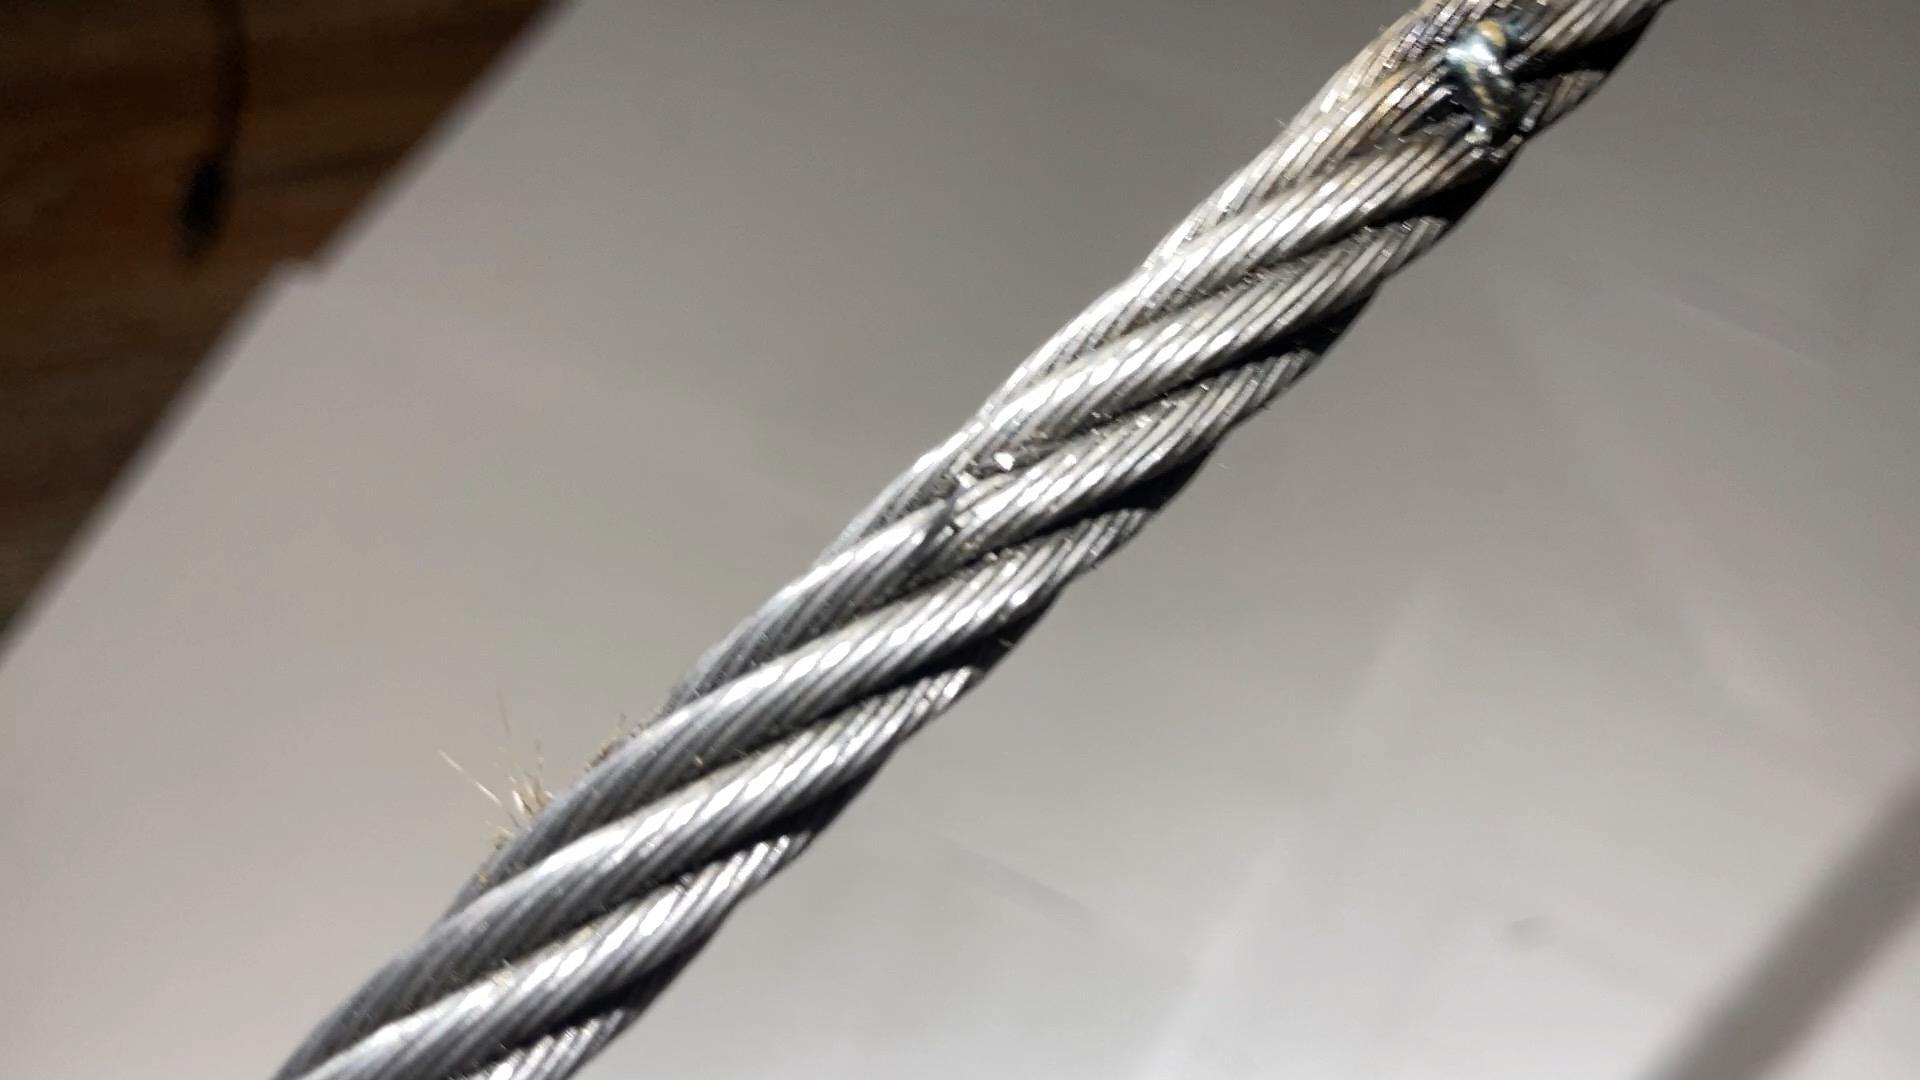thunderbolt: (1411, 37, 1551, 150)
